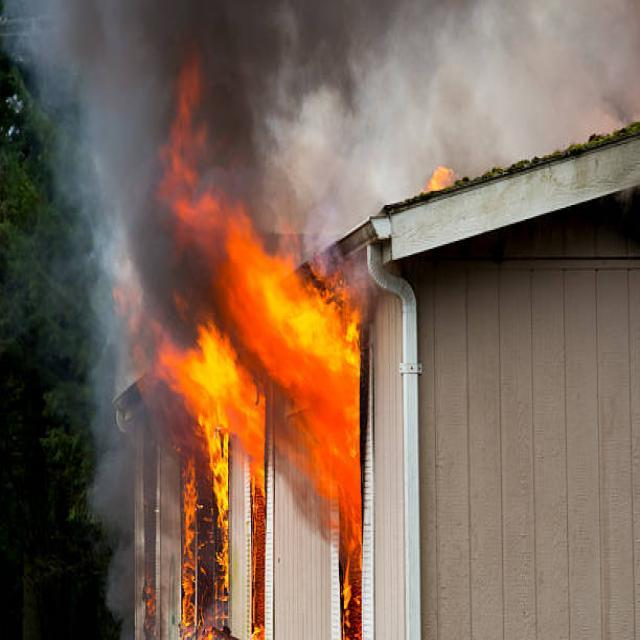Fire: (160, 80, 362, 524)
Smoke: (66, 0, 284, 338)
